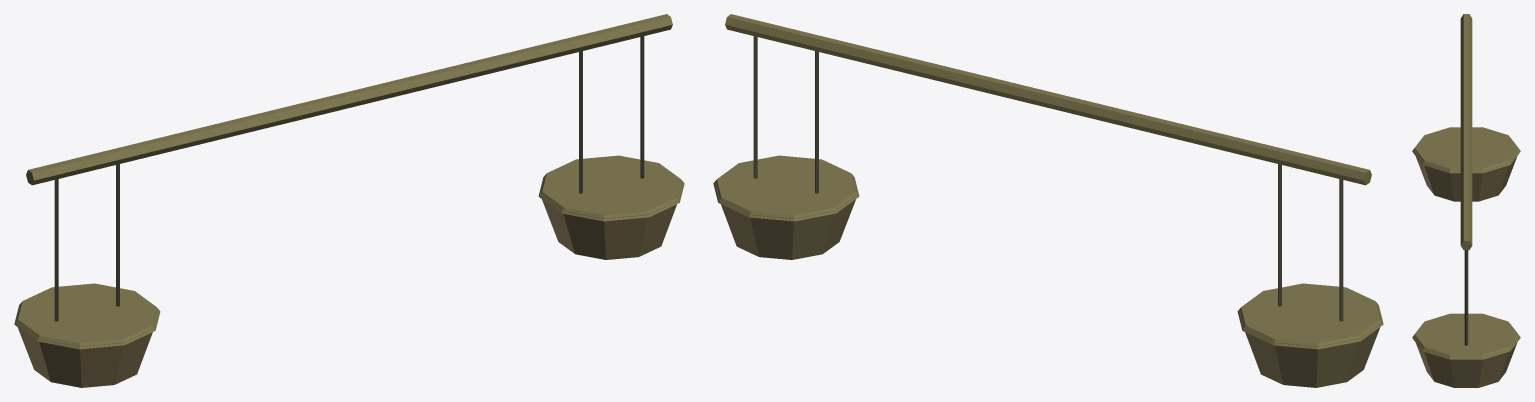
Rendered from carry_pole.glb.
3 renders of one model, left to right at view 1: azimuth 30°, elevation 25°; view 2: azimuth 150°, elevation 25°; view 3: azimuth 270°, elevation 25°, orthographic. The views are drawn at different scales.
Visible parts, largest first — view 1: carry_pole; view 2: carry_pole; view 3: carry_pole.
Part boxes in pixels (left/top/right/bottom): carry_pole: left=14, top=14, right=684, bottom=387; carry_pole: left=713, top=14, right=1383, bottom=387; carry_pole: left=1412, top=14, right=1520, bottom=387.
Size of the model in its own units: 1.58 by 0.4847 by 0.316.
1 material, 1 textured.
